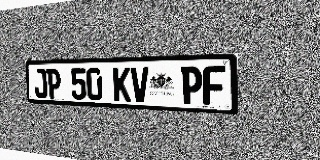0: (86, 68, 103, 100)
5: (71, 68, 87, 100)
F: (203, 65, 226, 106)
J: (34, 68, 48, 98)
K: (113, 67, 131, 102)
P: (181, 66, 202, 105), (47, 68, 61, 99)
V: (131, 67, 149, 102)
